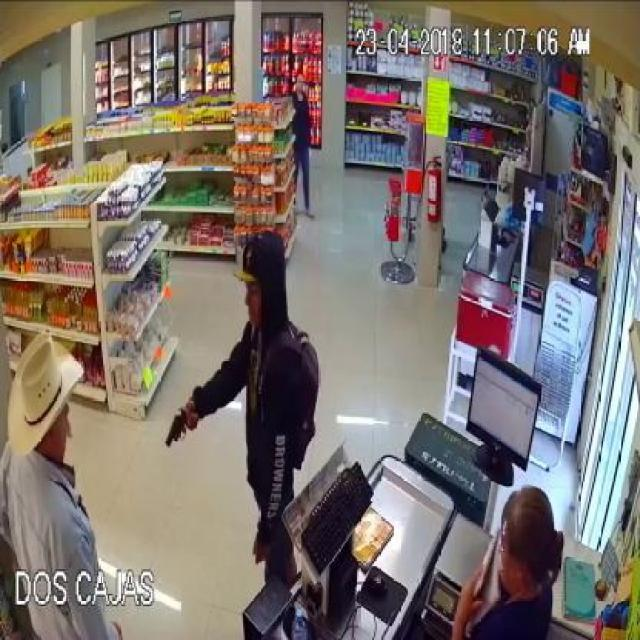Gun: (158, 405, 204, 450)
